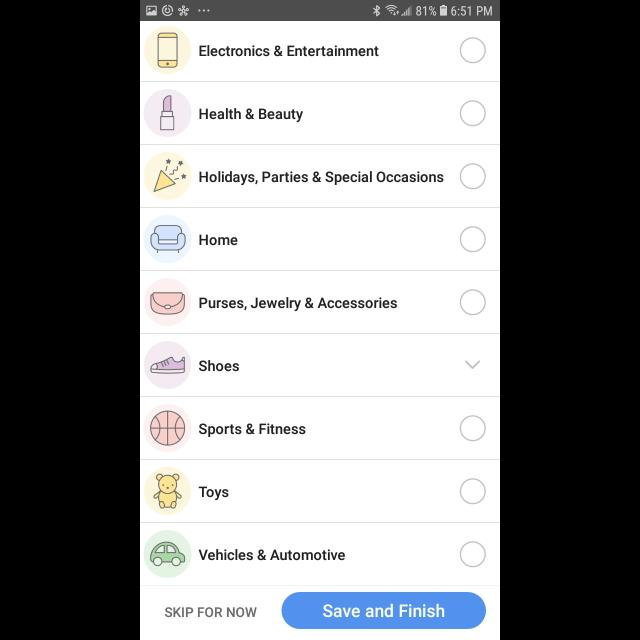checkbox: (460, 100, 484, 126), (460, 226, 484, 252), (460, 478, 484, 504), (460, 38, 484, 62), (460, 164, 484, 188), (460, 290, 484, 314), (460, 416, 484, 440), (460, 542, 484, 566)
icon: (464, 360, 480, 370)
image: (144, 340, 192, 390), (144, 466, 192, 516), (144, 403, 192, 452), (144, 27, 192, 75), (144, 90, 192, 138), (144, 152, 192, 200), (144, 215, 192, 263), (144, 278, 192, 326), (144, 530, 192, 578)
text: (200, 170, 444, 186), (199, 297, 397, 311), (200, 45, 378, 57), (199, 548, 345, 560), (200, 108, 304, 124), (198, 423, 306, 437), (165, 606, 257, 618), (199, 360, 239, 372), (200, 234, 238, 246), (199, 486, 229, 500)
textbutton: (282, 592, 486, 628)
uppertaskbar: (140, 1, 500, 22)
